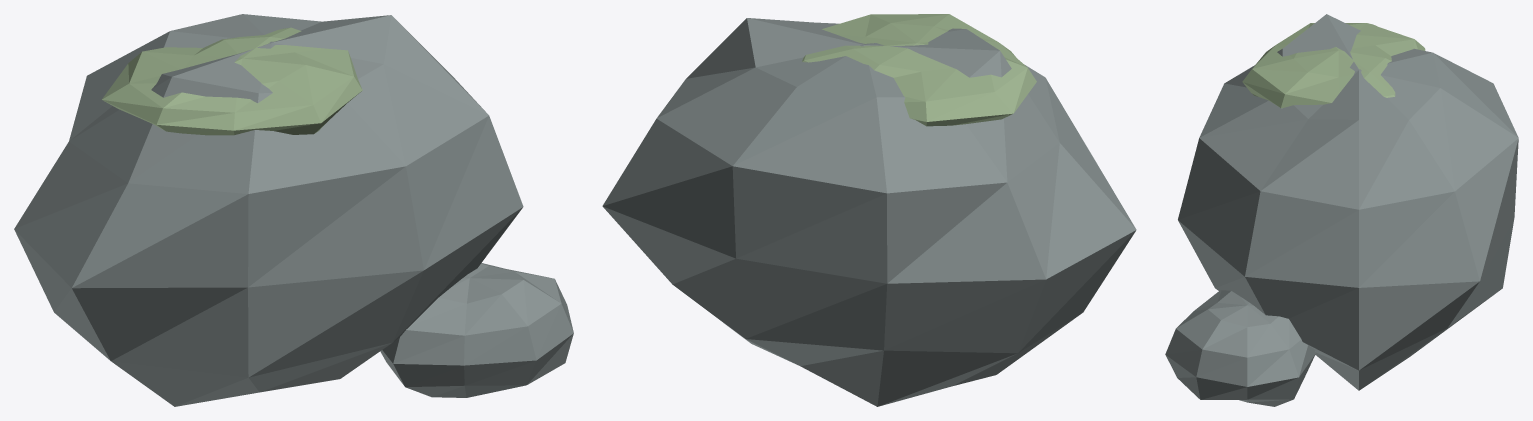
File: mossy_basalt_rock.glb
3 views of the same model, side by side, from view 1: azimuth 30°, elevation 25°; view 2: azimuth 150°, elevation 25°; view 3: azimuth 270°, elevation 25° (orthographic). The views are drawn at different scales.
Visible parts, largest first — view 1: basalt-boulder; view 2: basalt-boulder; view 3: basalt-boulder.
Boxes of the visible parts, box(x1,y1,x2,y2) form: basalt-boulder: box(14, 14, 573, 406); basalt-boulder: box(602, 14, 1136, 406); basalt-boulder: box(1165, 14, 1518, 406).
Size of the model in its own units: 2.22 by 1.57 by 1.74.
